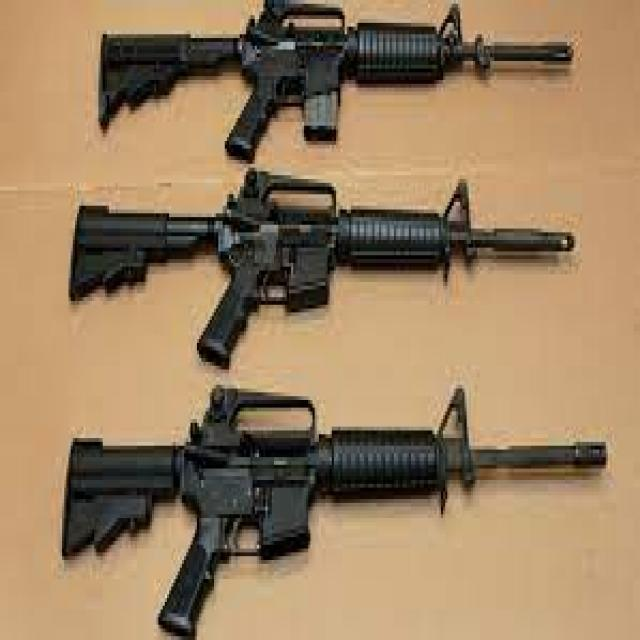weapon: (61, 382, 608, 637), (67, 166, 577, 371), (98, 1, 574, 162)
